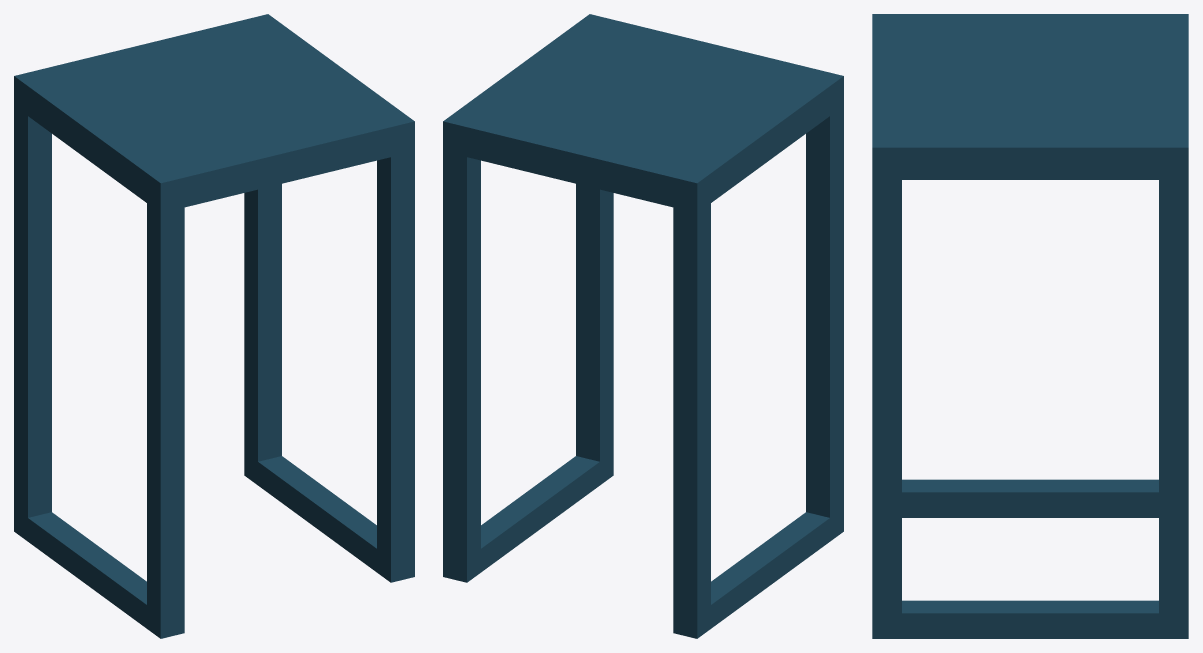
File: ticketstandseat.glb
The picture shows the model from 3 angles, left to right: view 1: azimuth 30°, elevation 25°; view 2: azimuth 150°, elevation 25°; view 3: azimuth 270°, elevation 25°; orthographic projection. The views are drawn at different scales.
Visible parts, largest first — view 1: Chair; view 2: Chair; view 3: Chair.
Part boxes in pixels (box(x1,y1,x2,y2)): Chair: box(14, 14, 414, 638); Chair: box(443, 14, 843, 638); Chair: box(872, 14, 1188, 638).
Bounding box in the file's own units: 0.3485 × 0.5971 × 0.3485.
Materials: 1 (1 with a texture image).
